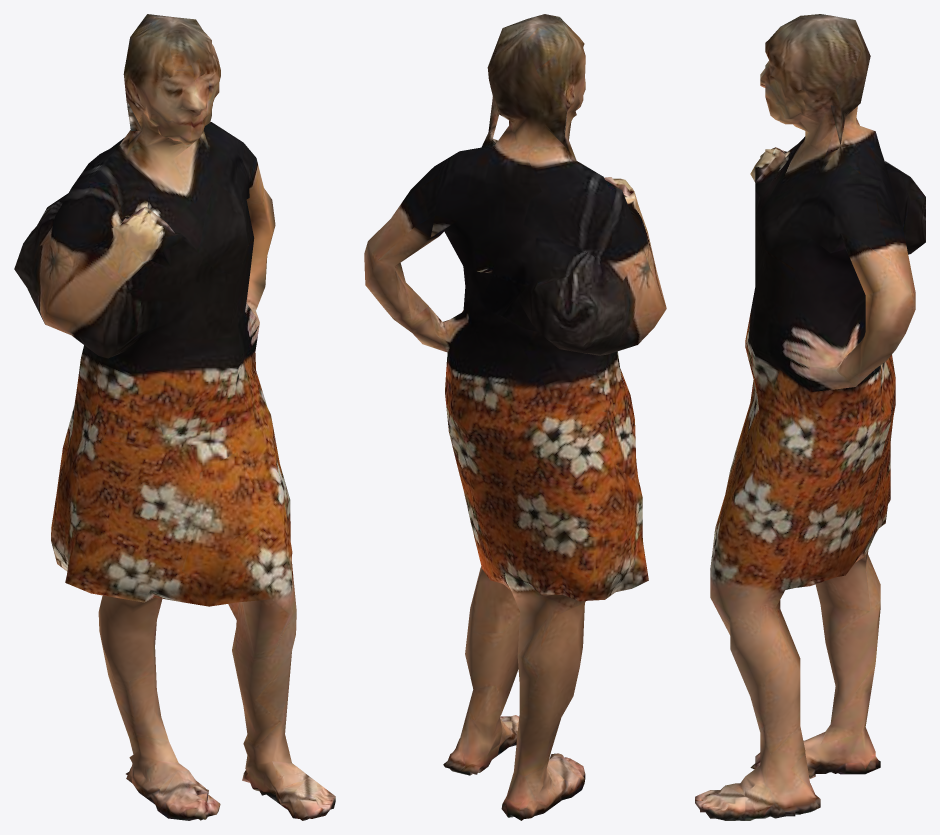
File: casual4.obj
3 views of the same model, side by side, from view 1: azimuth 30°, elevation 25°; view 2: azimuth 150°, elevation 25°; view 3: azimuth 270°, elevation 25° (orthographic). The views are drawn at different scales.
Parts seen in each view (by area): view 1: lwpg0006; view 2: lwpg0006; view 3: lwpg0006.
Part boxes in pixels (left/top/right/bottom): lwpg0006: left=14, top=14, right=335, bottom=820; lwpg0006: left=364, top=14, right=666, bottom=820; lwpg0006: left=695, top=14, right=925, bottom=820.
Bounding box in the file's own units: 0.59 × 1.67 × 0.46.
Materials: 1 (1 with a texture image).
